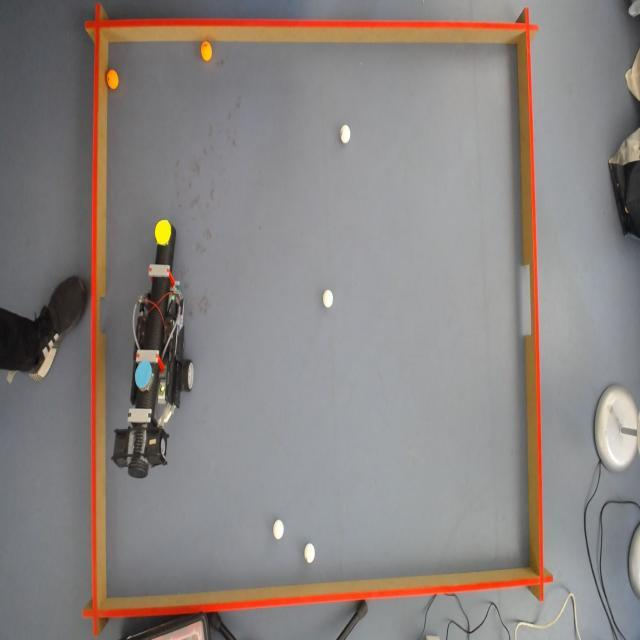orange: (107, 69, 122, 89), (200, 42, 212, 64)
robot: (122, 256, 196, 478)
robot-front: (154, 220, 172, 245)
robot-rear: (134, 361, 152, 388)
white: (272, 518, 286, 540), (304, 542, 317, 564), (321, 288, 334, 310), (340, 124, 350, 144)
